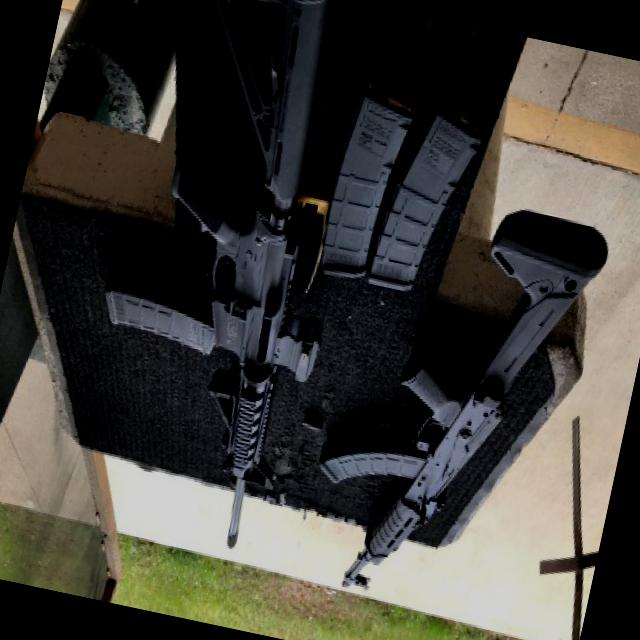long weapon: (291, 167, 633, 634)
